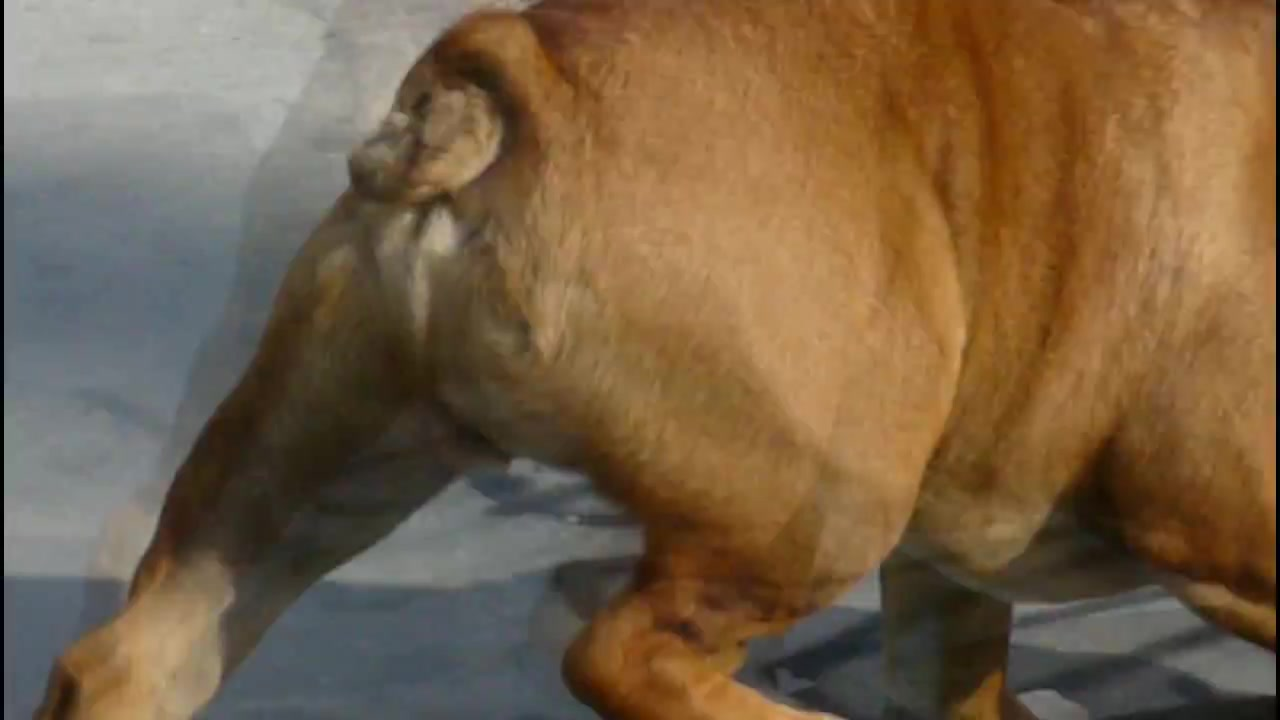dog: (34, 1, 1277, 720)
